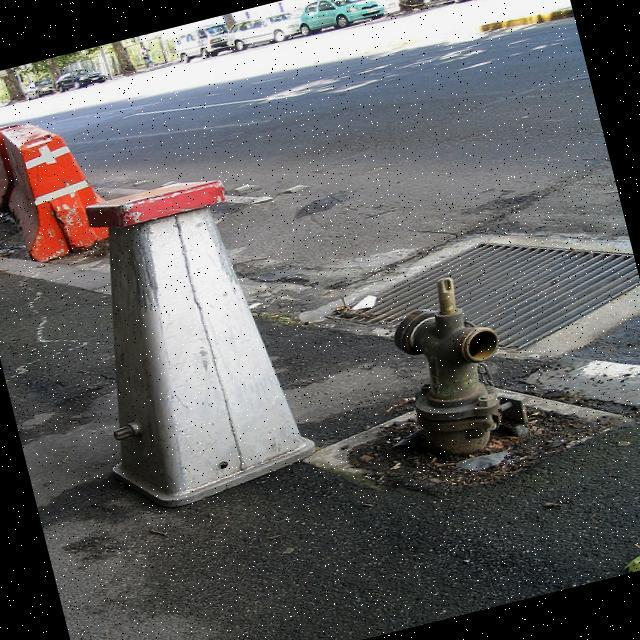fire_hydrant: (378, 264, 532, 464)
